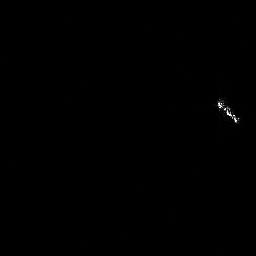ship: (213, 95, 244, 127)
